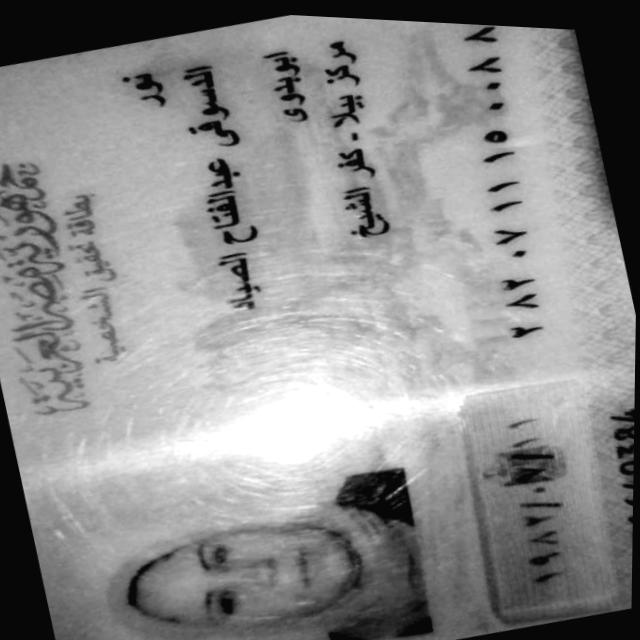front: (0, 15, 636, 640)
